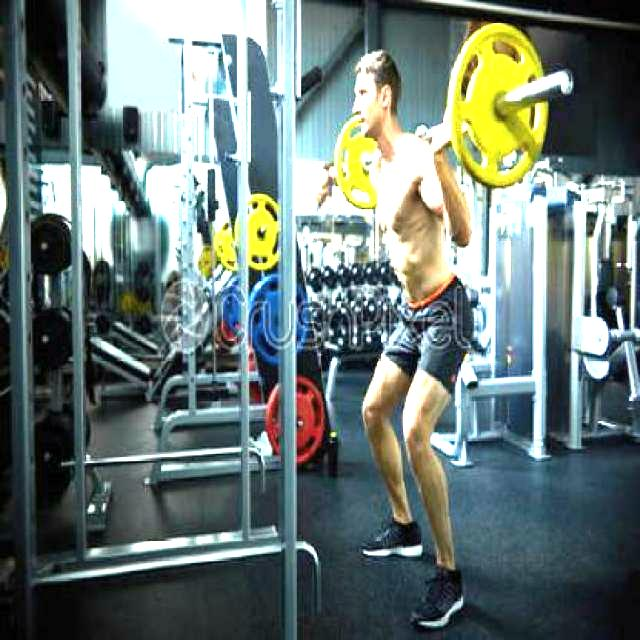barbell: (442, 16, 552, 193)
